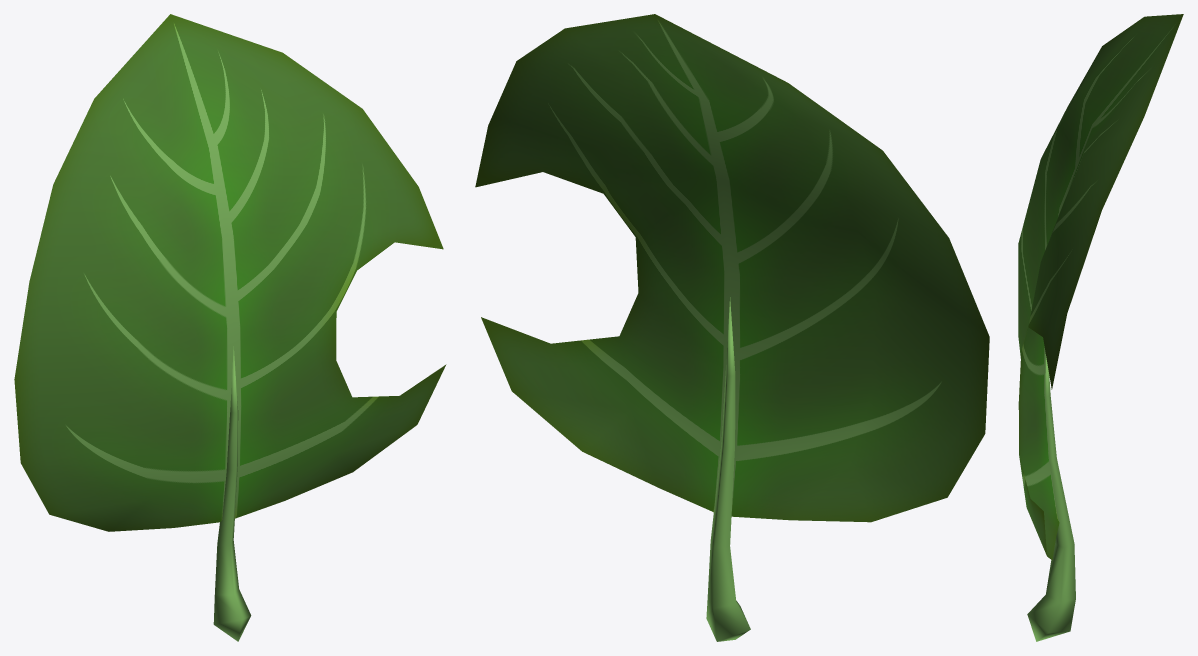
File: Leaf.fbx
3 views of the same model, side by side, from view 1: azimuth 30°, elevation 25°; view 2: azimuth 150°, elevation 25°; view 3: azimuth 270°, elevation 25° (orthographic). The views are drawn at different scales.
Parts seen in each view (by area): view 1: Leaf; view 2: Leaf; view 3: Leaf.
Part boxes in pixels (<box>): Leaf: <box>14,14,446,641</box>; Leaf: <box>475,14,989,641</box>; Leaf: <box>1018,14,1183,641</box>.
Size of the model in its own units: 60.6 by 77.52 by 18.53.
